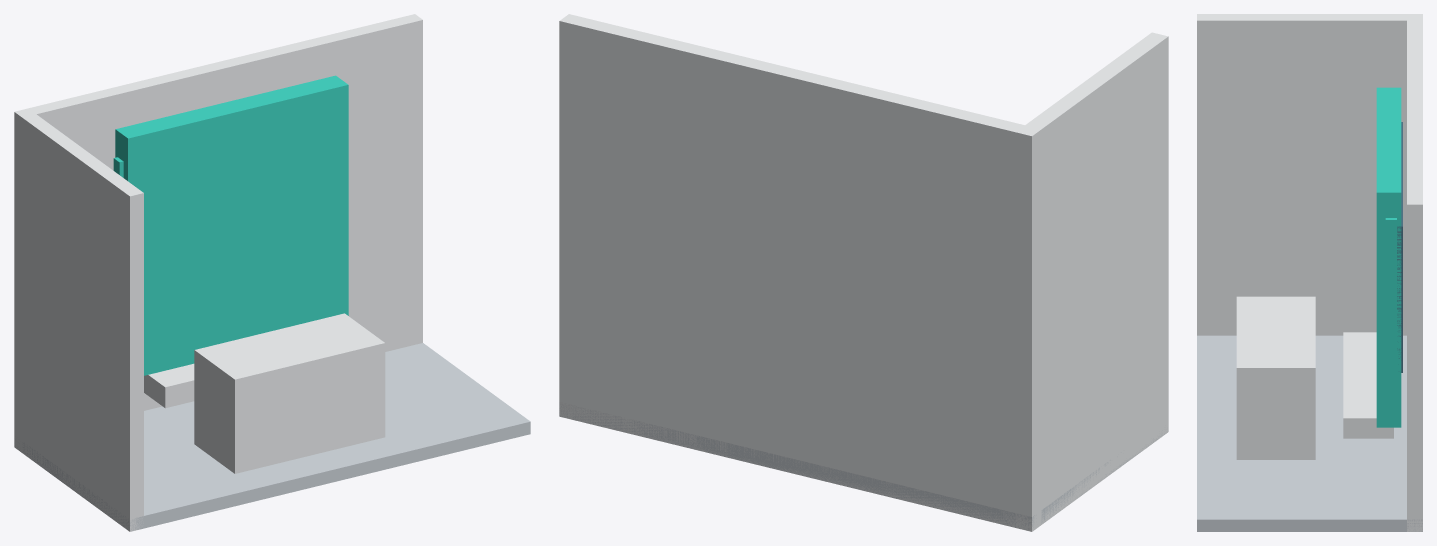
The picture shows the model from 3 angles, left to right: view 1: azimuth 30°, elevation 25°; view 2: azimuth 150°, elevation 25°; view 3: azimuth 270°, elevation 25°; orthographic projection. The views are drawn at different scales.
Parts seen in each view (by area): view 1: Exhibition Booth Concept; view 2: Exhibition Booth Concept; view 3: Exhibition Booth Concept.
Boxes of the visible parts, x1,y1,x2,y2 form: Exhibition Booth Concept: [14, 14, 530, 531]; Exhibition Booth Concept: [559, 14, 1168, 531]; Exhibition Booth Concept: [1197, 14, 1422, 531].
Size of the model in its own units: 4 by 3.2 by 2.
